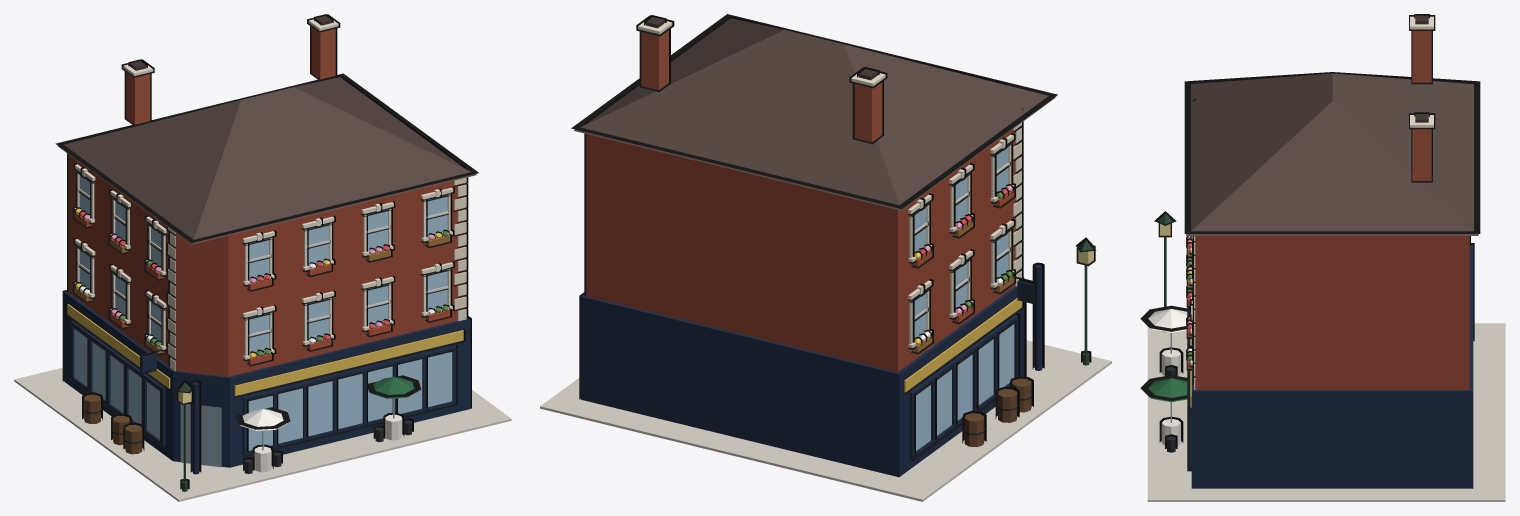
The model's file is Dukkan_cadde_pub.fbx.
3 renders of one model, left to right at view 1: azimuth 30°, elevation 25°; view 2: azimuth 150°, elevation 25°; view 3: azimuth 270°, elevation 25°, orthographic. The views are drawn at different scales.
Parts seen in each view (by area): view 1: Dukkan_cadde_pub; view 2: Dukkan_cadde_pub; view 3: Dukkan_cadde_pub.
Boxes of the visible parts, box(x1,y1,x2,y2) form: Dukkan_cadde_pub: box(14, 14, 511, 501); Dukkan_cadde_pub: box(540, 14, 1111, 501); Dukkan_cadde_pub: box(1140, 14, 1505, 501).
Size of the model in its own units: 14 by 13.07 by 12.24.
